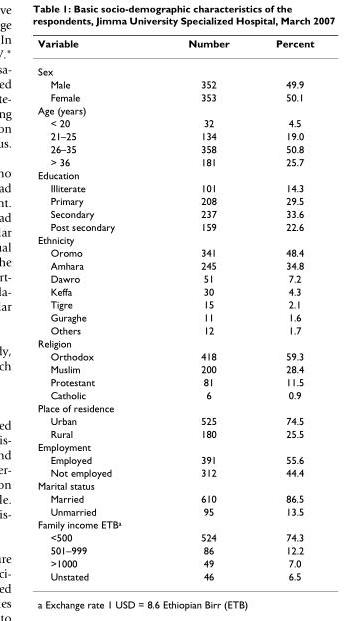table: (37, 36, 313, 581)
table column: (37, 36, 154, 581), (154, 36, 251, 581), (251, 36, 313, 581)
table column header: (37, 36, 313, 57)
table projected row header: (37, 57, 313, 77), (37, 103, 313, 116), (37, 168, 313, 181), (37, 232, 313, 245), (37, 336, 313, 349), (37, 401, 313, 414), (37, 478, 313, 491), (37, 517, 313, 530), (37, 440, 313, 452)
table row: (37, 36, 313, 57), (37, 57, 313, 77), (37, 77, 313, 90), (37, 90, 313, 103), (37, 103, 313, 116), (37, 116, 313, 129), (37, 129, 313, 142), (37, 142, 313, 155), (37, 155, 313, 168), (37, 168, 313, 181), (37, 181, 313, 194), (37, 194, 313, 207), (37, 207, 313, 220), (37, 232, 313, 245), (37, 245, 313, 258), (37, 258, 313, 271), (37, 271, 313, 284), (37, 284, 313, 297), (37, 297, 313, 310), (37, 310, 313, 323), (37, 323, 313, 336), (37, 336, 313, 349), (37, 349, 313, 362), (37, 362, 313, 375), (37, 375, 313, 388), (37, 388, 313, 401), (37, 401, 313, 414), (37, 414, 313, 427), (37, 427, 313, 440), (37, 452, 313, 465), (37, 465, 313, 478), (37, 478, 313, 491), (37, 491, 313, 504), (37, 504, 313, 517), (37, 517, 313, 530), (37, 530, 313, 543), (37, 543, 313, 556), (37, 556, 313, 569), (37, 220, 313, 232), (37, 440, 313, 452), (37, 569, 313, 581)
